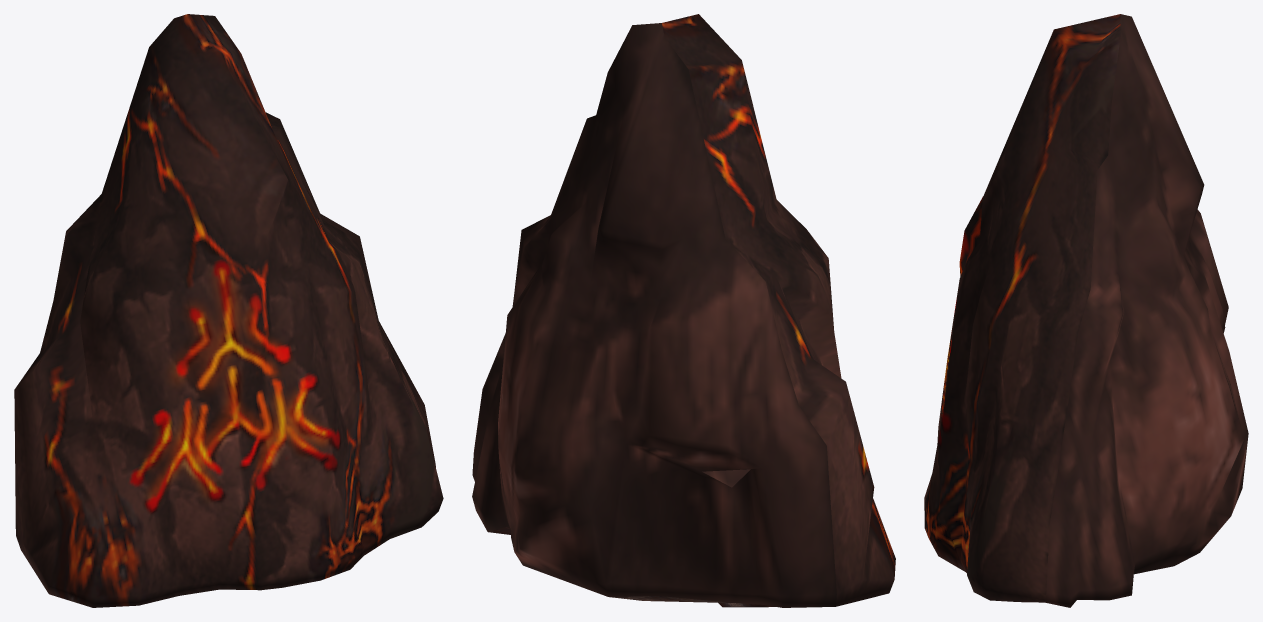
The model's file is 6002_Item_shtou_5.FBX.
3 views of the same model, side by side, from view 1: azimuth 30°, elevation 25°; view 2: azimuth 150°, elevation 25°; view 3: azimuth 270°, elevation 25° (orthographic). The views are drawn at different scales.
Visible parts, largest first — view 1: 6002_Item_shtou_5; view 2: 6002_Item_shtou_5; view 3: 6002_Item_shtou_5.
Part boxes in pixels (box(x1,y1,x2,y2)): 6002_Item_shtou_5: box(14, 14, 443, 607); 6002_Item_shtou_5: box(472, 14, 895, 607); 6002_Item_shtou_5: box(924, 14, 1248, 607).
Size of the model in its own units: 3544 by 4527 by 2562.
